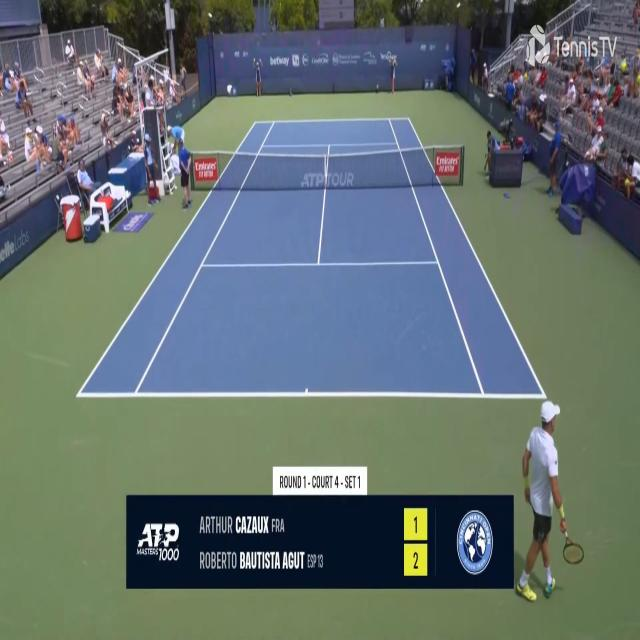tennis-player: (516, 394, 585, 607)
